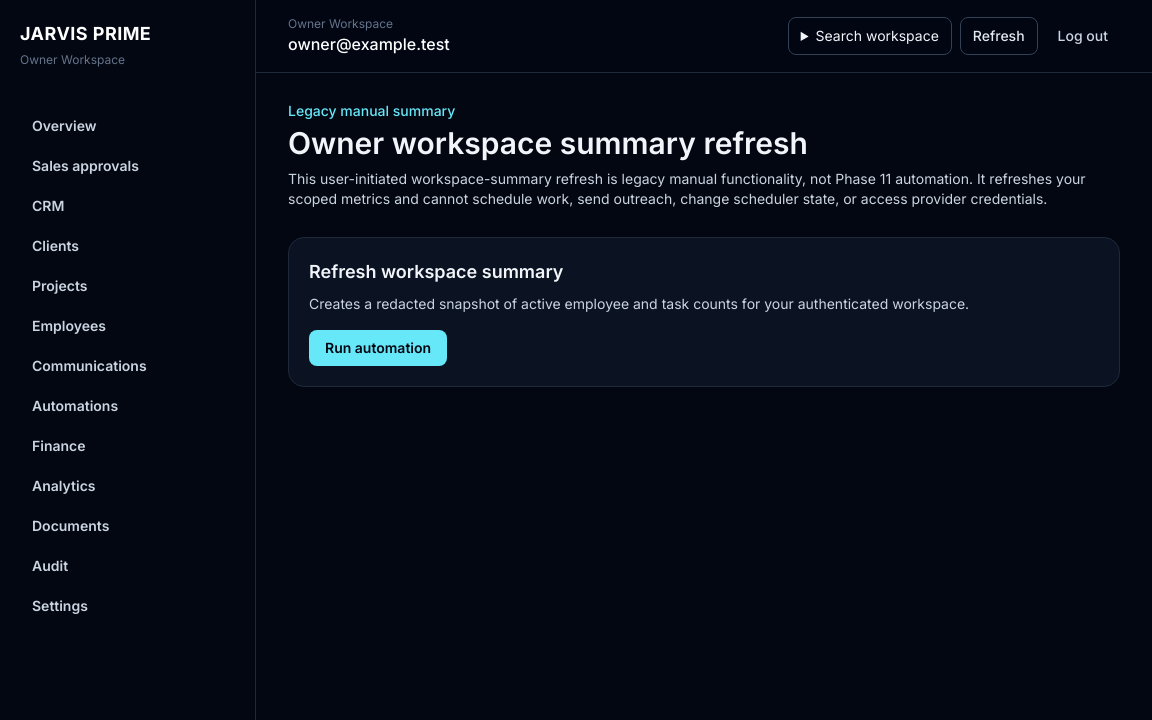
Scenario: Owner automation runner › starts only the allowlisted scoped workflow, uses an idempotency key, and never sends an automation secret
Check: the text "Legacy manual summary" is shown, box [288,102,455,119]
Check: the text "not Phase 11 automation" is shown, box [288,170,1086,207]
Click the button "Run automation" at coordinates (378, 348), box [309,330,447,366]
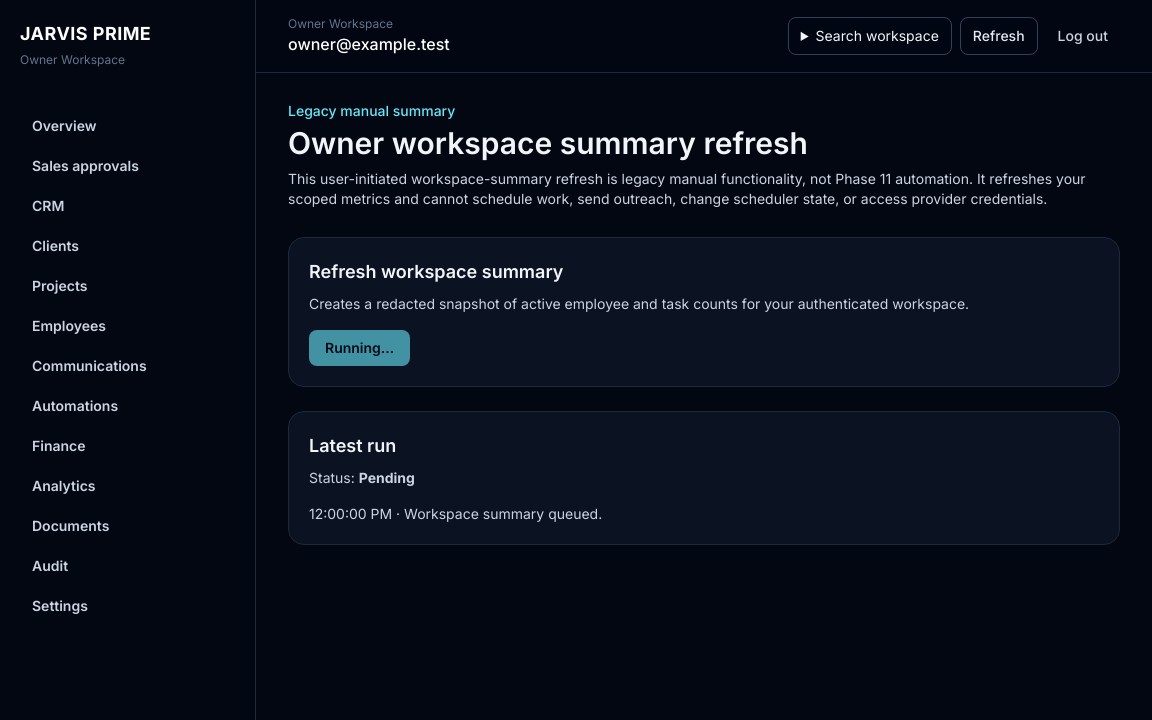
Check: the text "pending" is shown, box [359,469,415,486]
